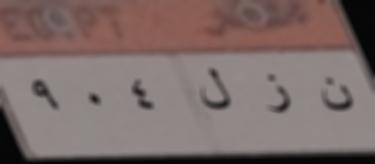0: (84, 86, 109, 111)
4: (128, 76, 156, 119)
9: (27, 76, 62, 118)
laam: (196, 61, 233, 117)
noon: (316, 76, 356, 116)
zay: (262, 73, 292, 122)
